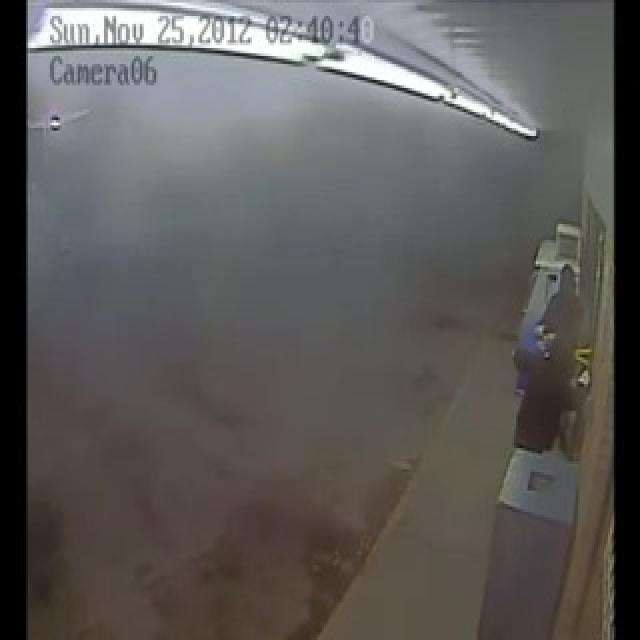thief: (506, 266, 590, 458)
